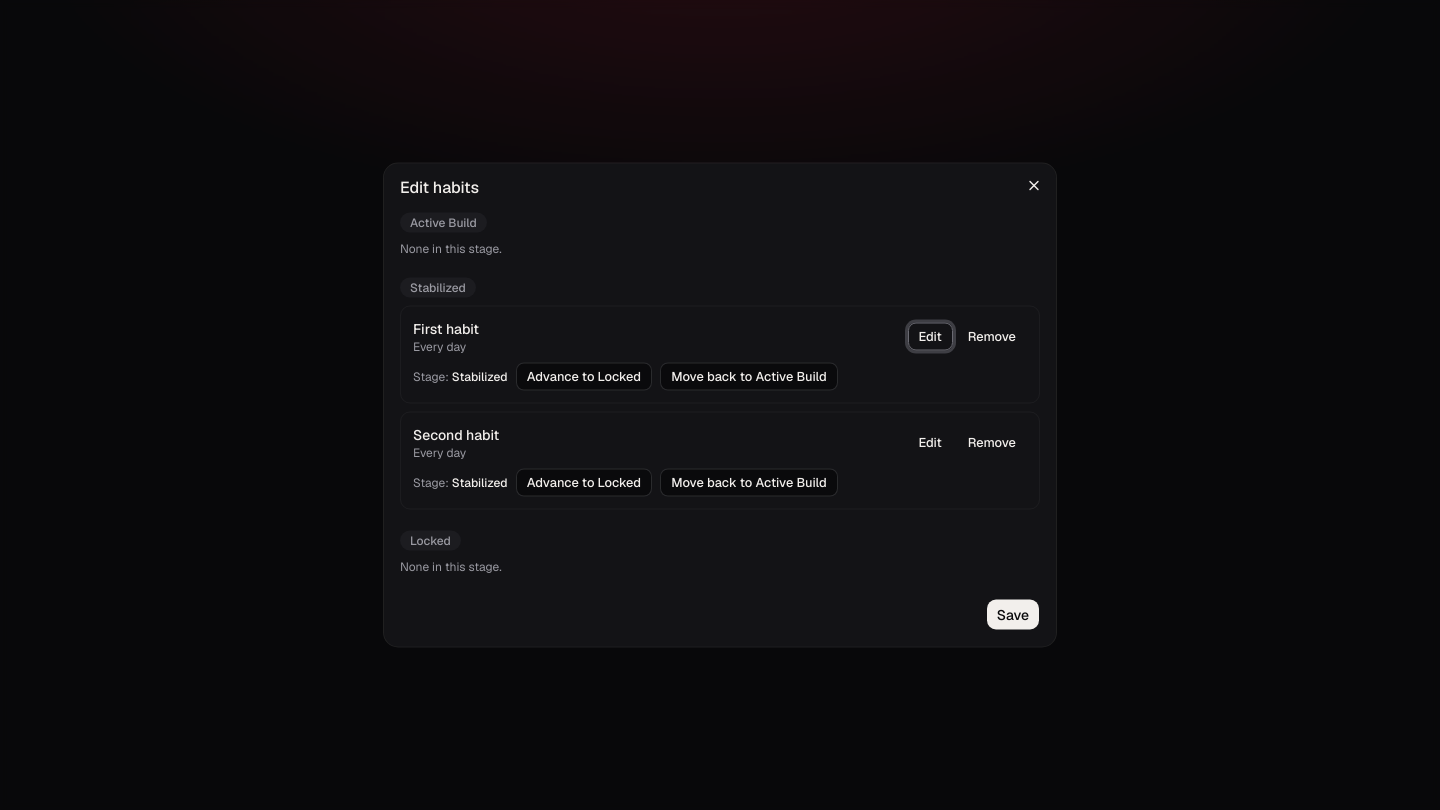
Test: HabitEditorDialog › Advanced screen: switching the habit selector reloads that habit's committed_date and day logs
The image size is (1440, 810).
Click the button "Edit" in the row of "First habit". click: {"x": 930, "y": 336}
box: [908,322,953,350]
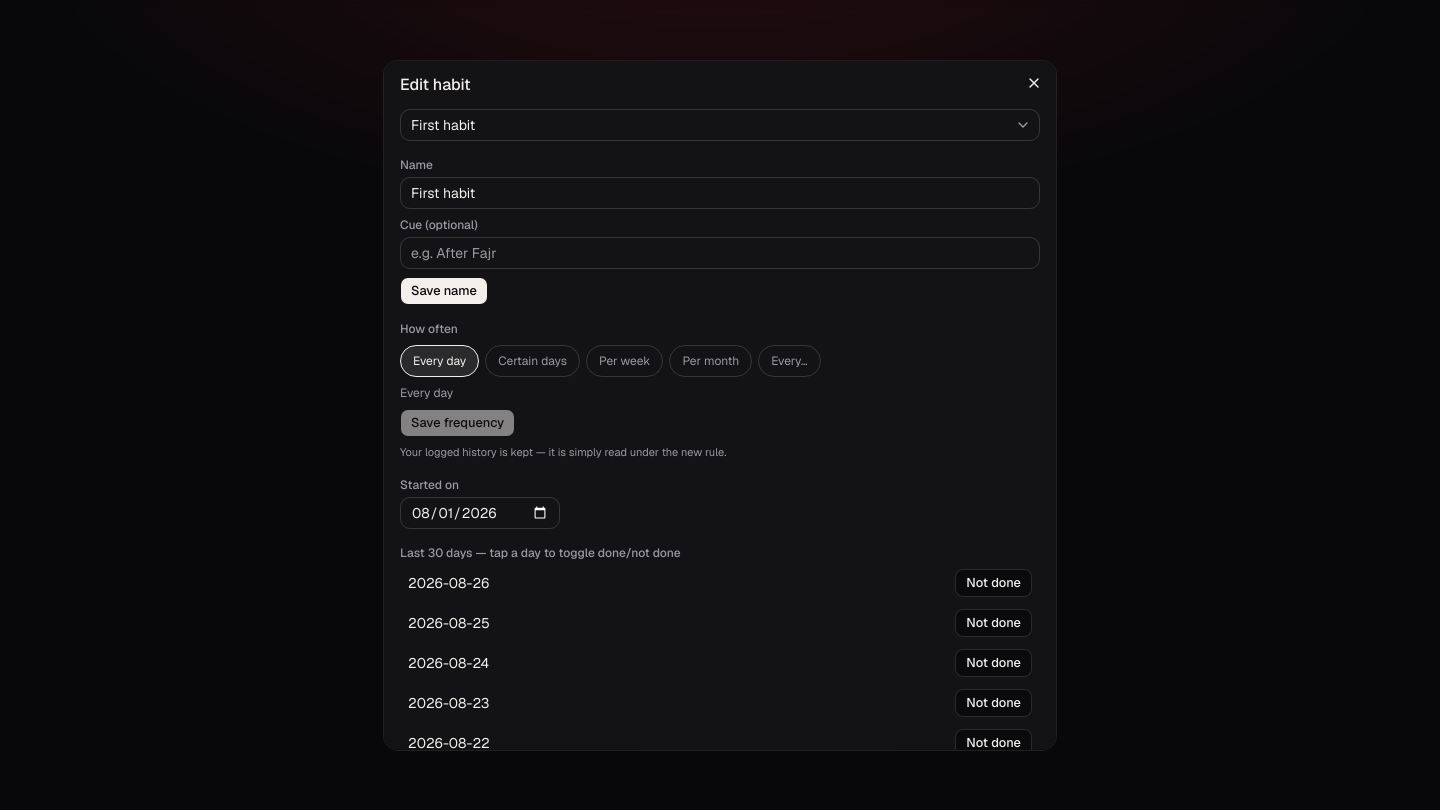
Result: the date field labelled "Started on" holds "2026-08-01" at [400,496,560,528]
Switch via the Select — only rendered because there's more than one habit.
Click the dropdown. click: {"x": 443, "y": 125}
box: [400,109,1040,141]
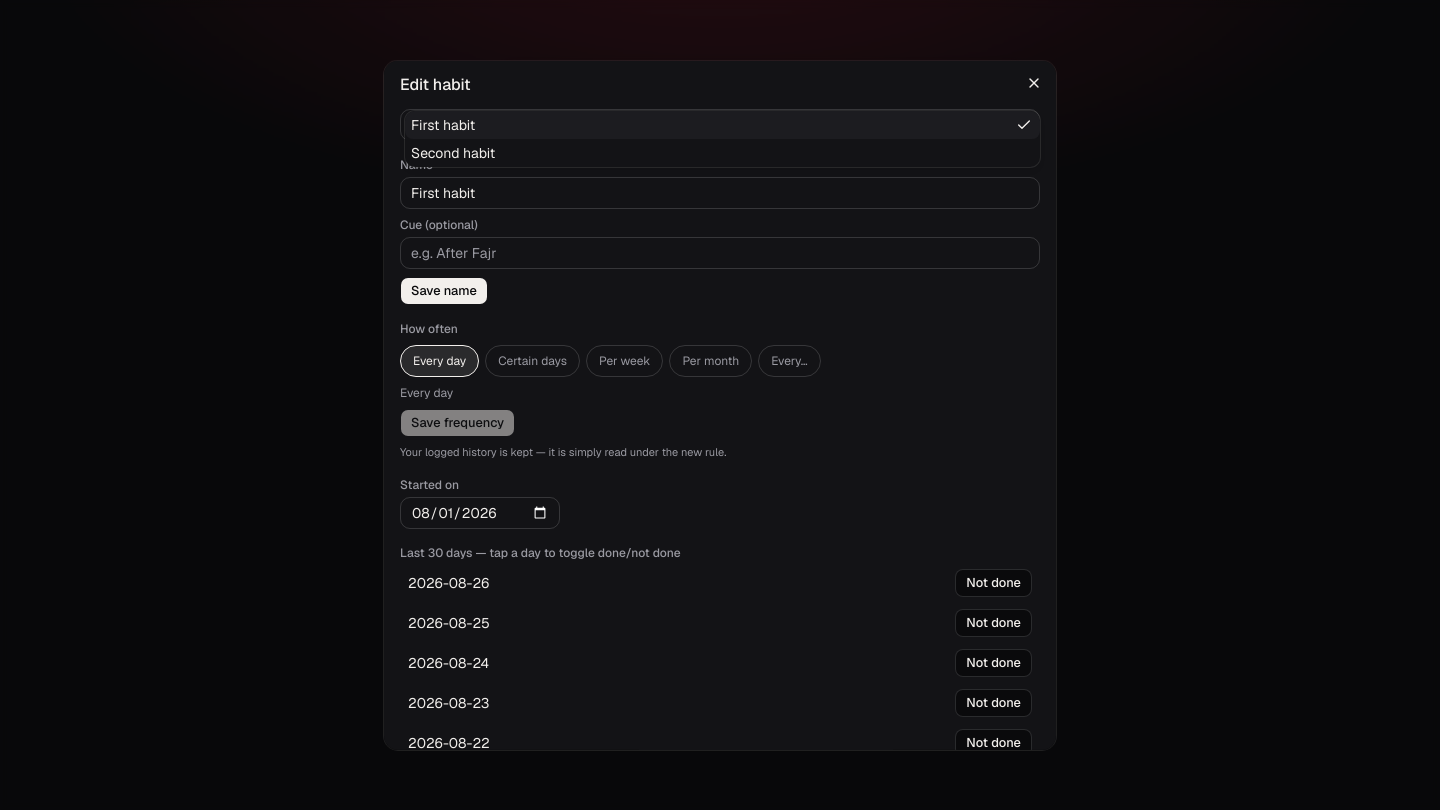
Click the option "Second habit". click: {"x": 453, "y": 153}
box: [411,144,495,162]
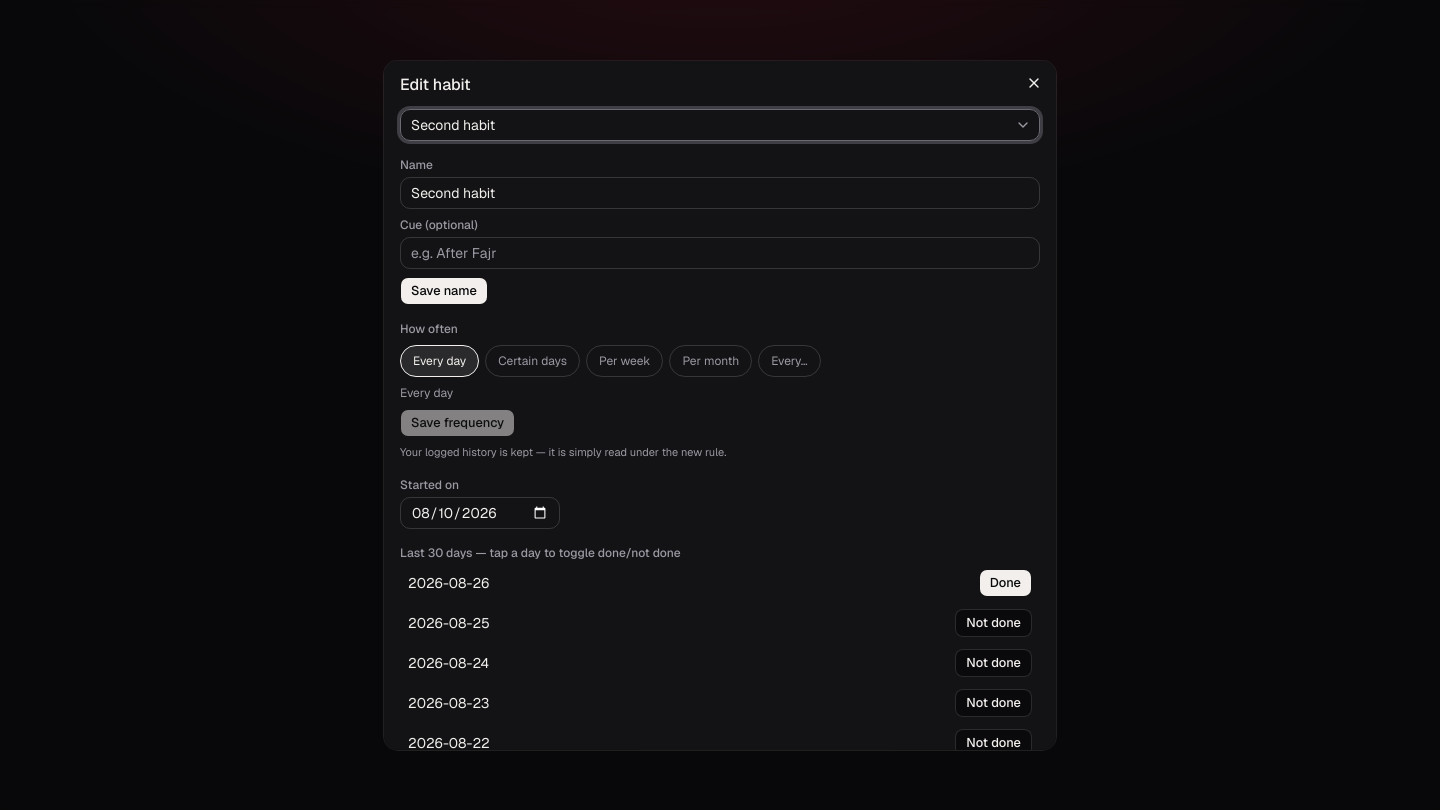
Result: the button "Done" is shown at [979,568,1032,596]
Result: the date field labelled "Started on" holds "2026-08-10" at [400,496,560,528]
